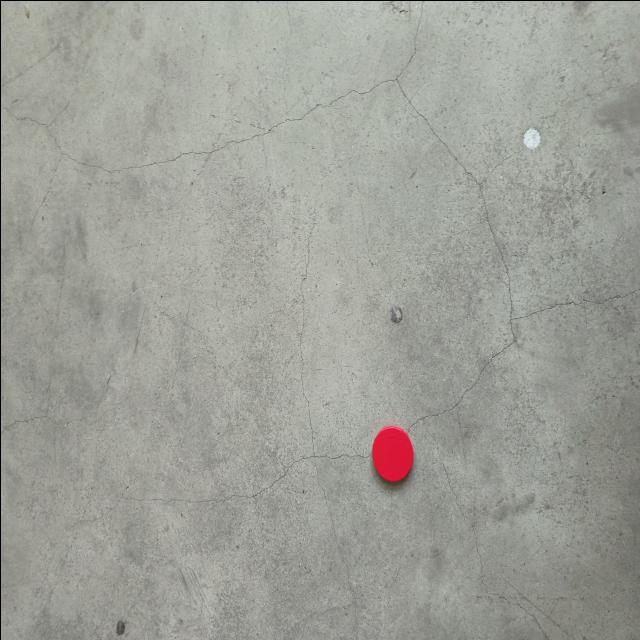chip: (371, 421, 411, 481)
